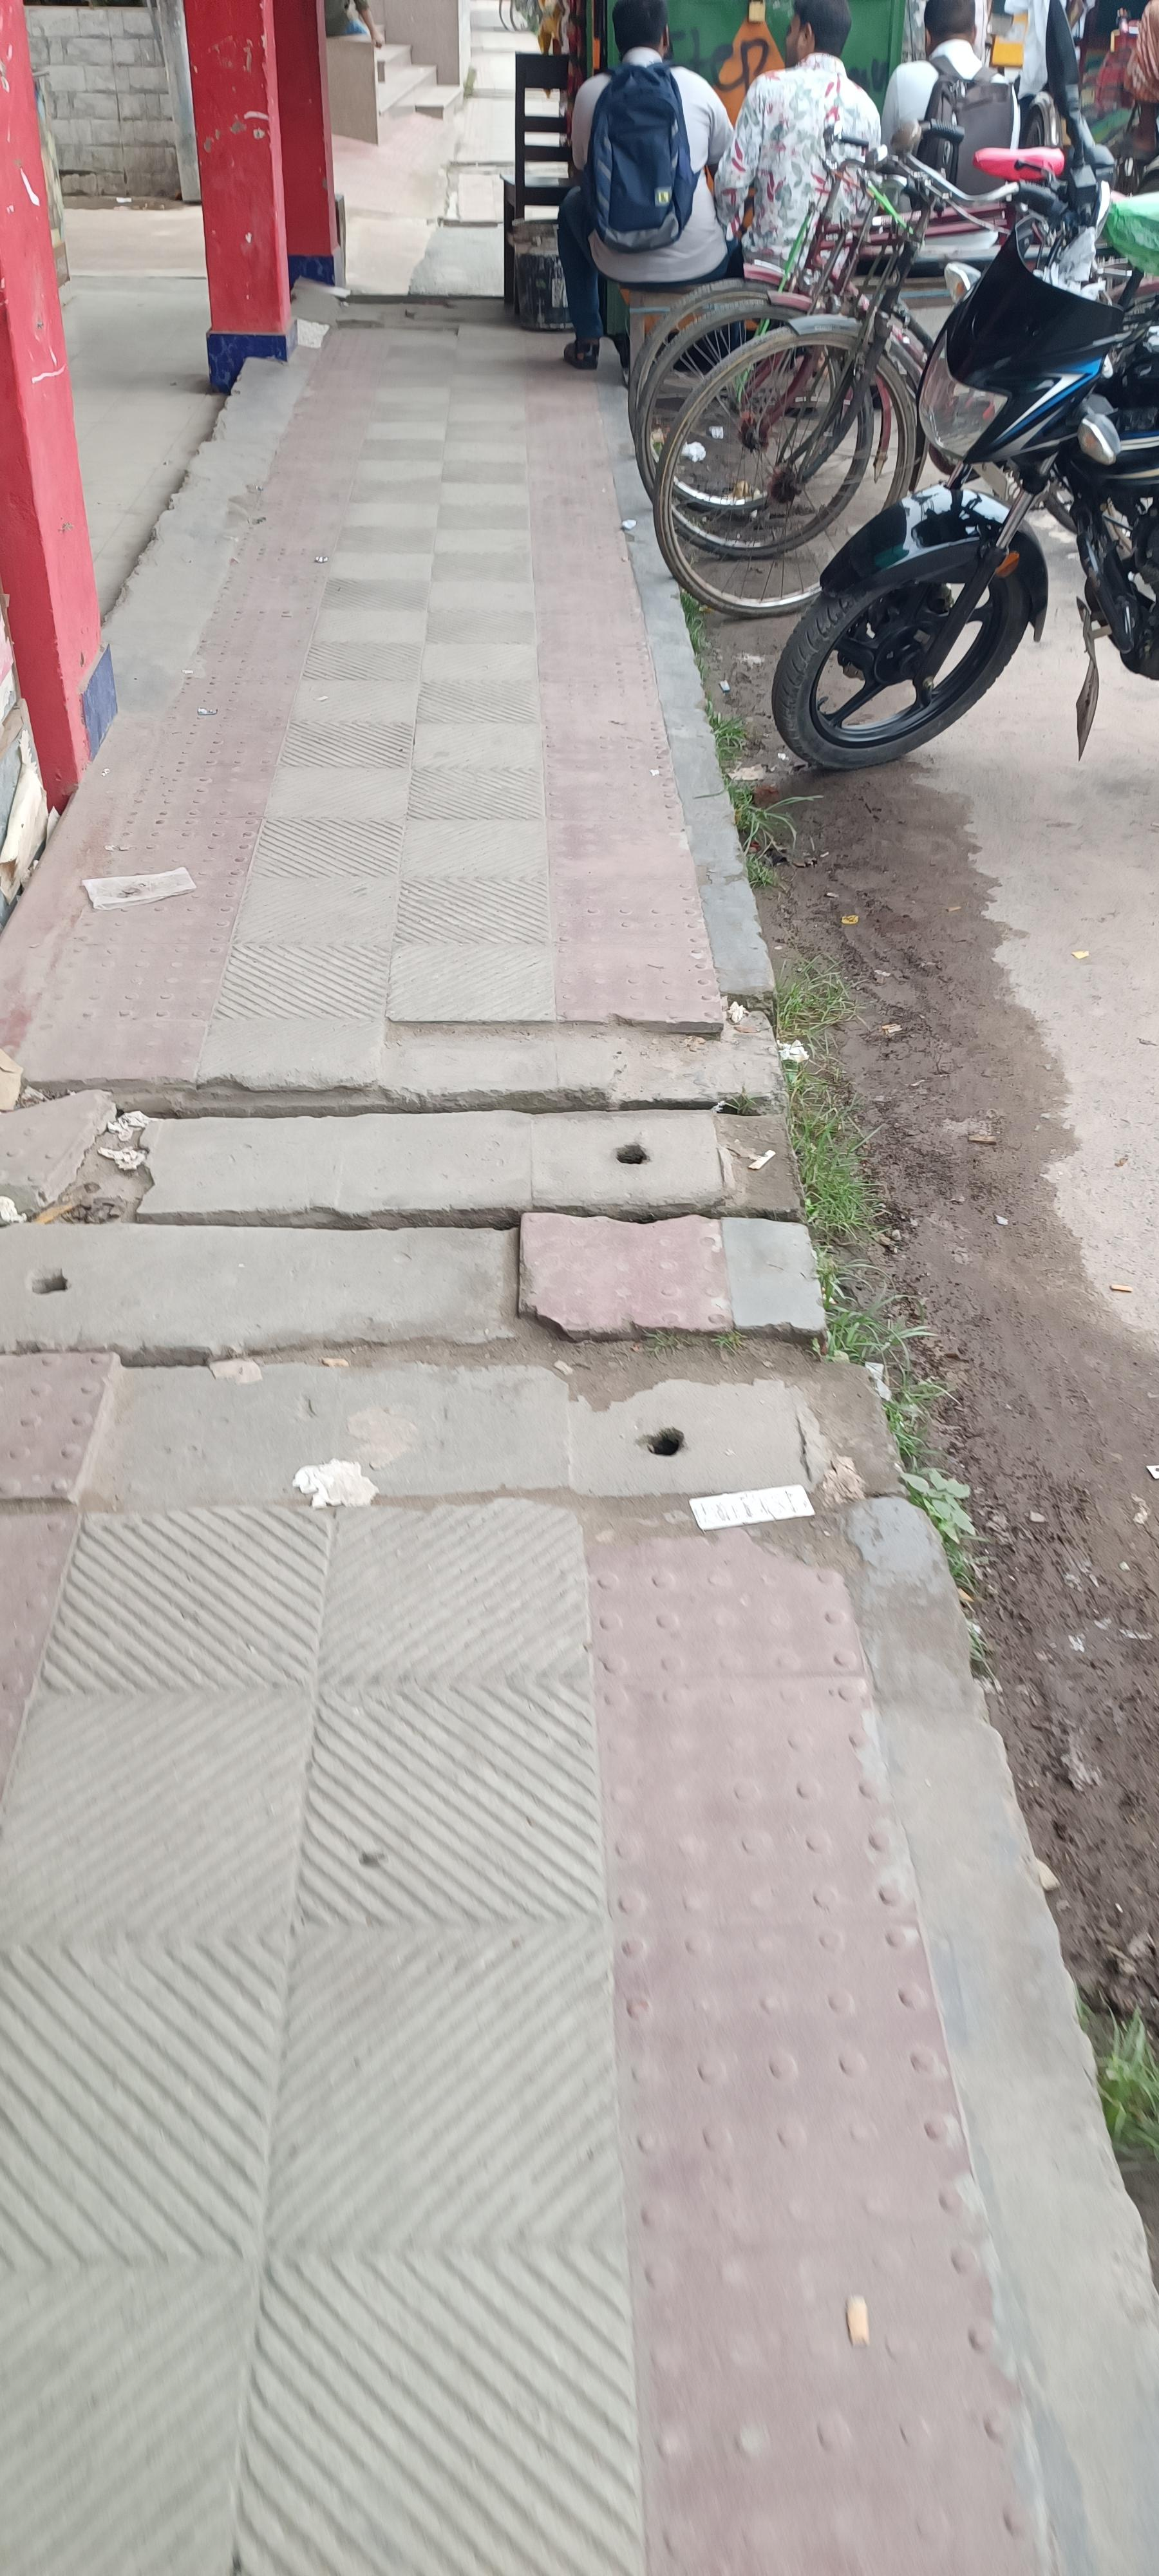Fallen-tree: (768, 172, 1157, 772)
Garbage-bin: (560, 0, 744, 384), (712, 0, 883, 414)
Pothole: (181, 399, 960, 2201)
